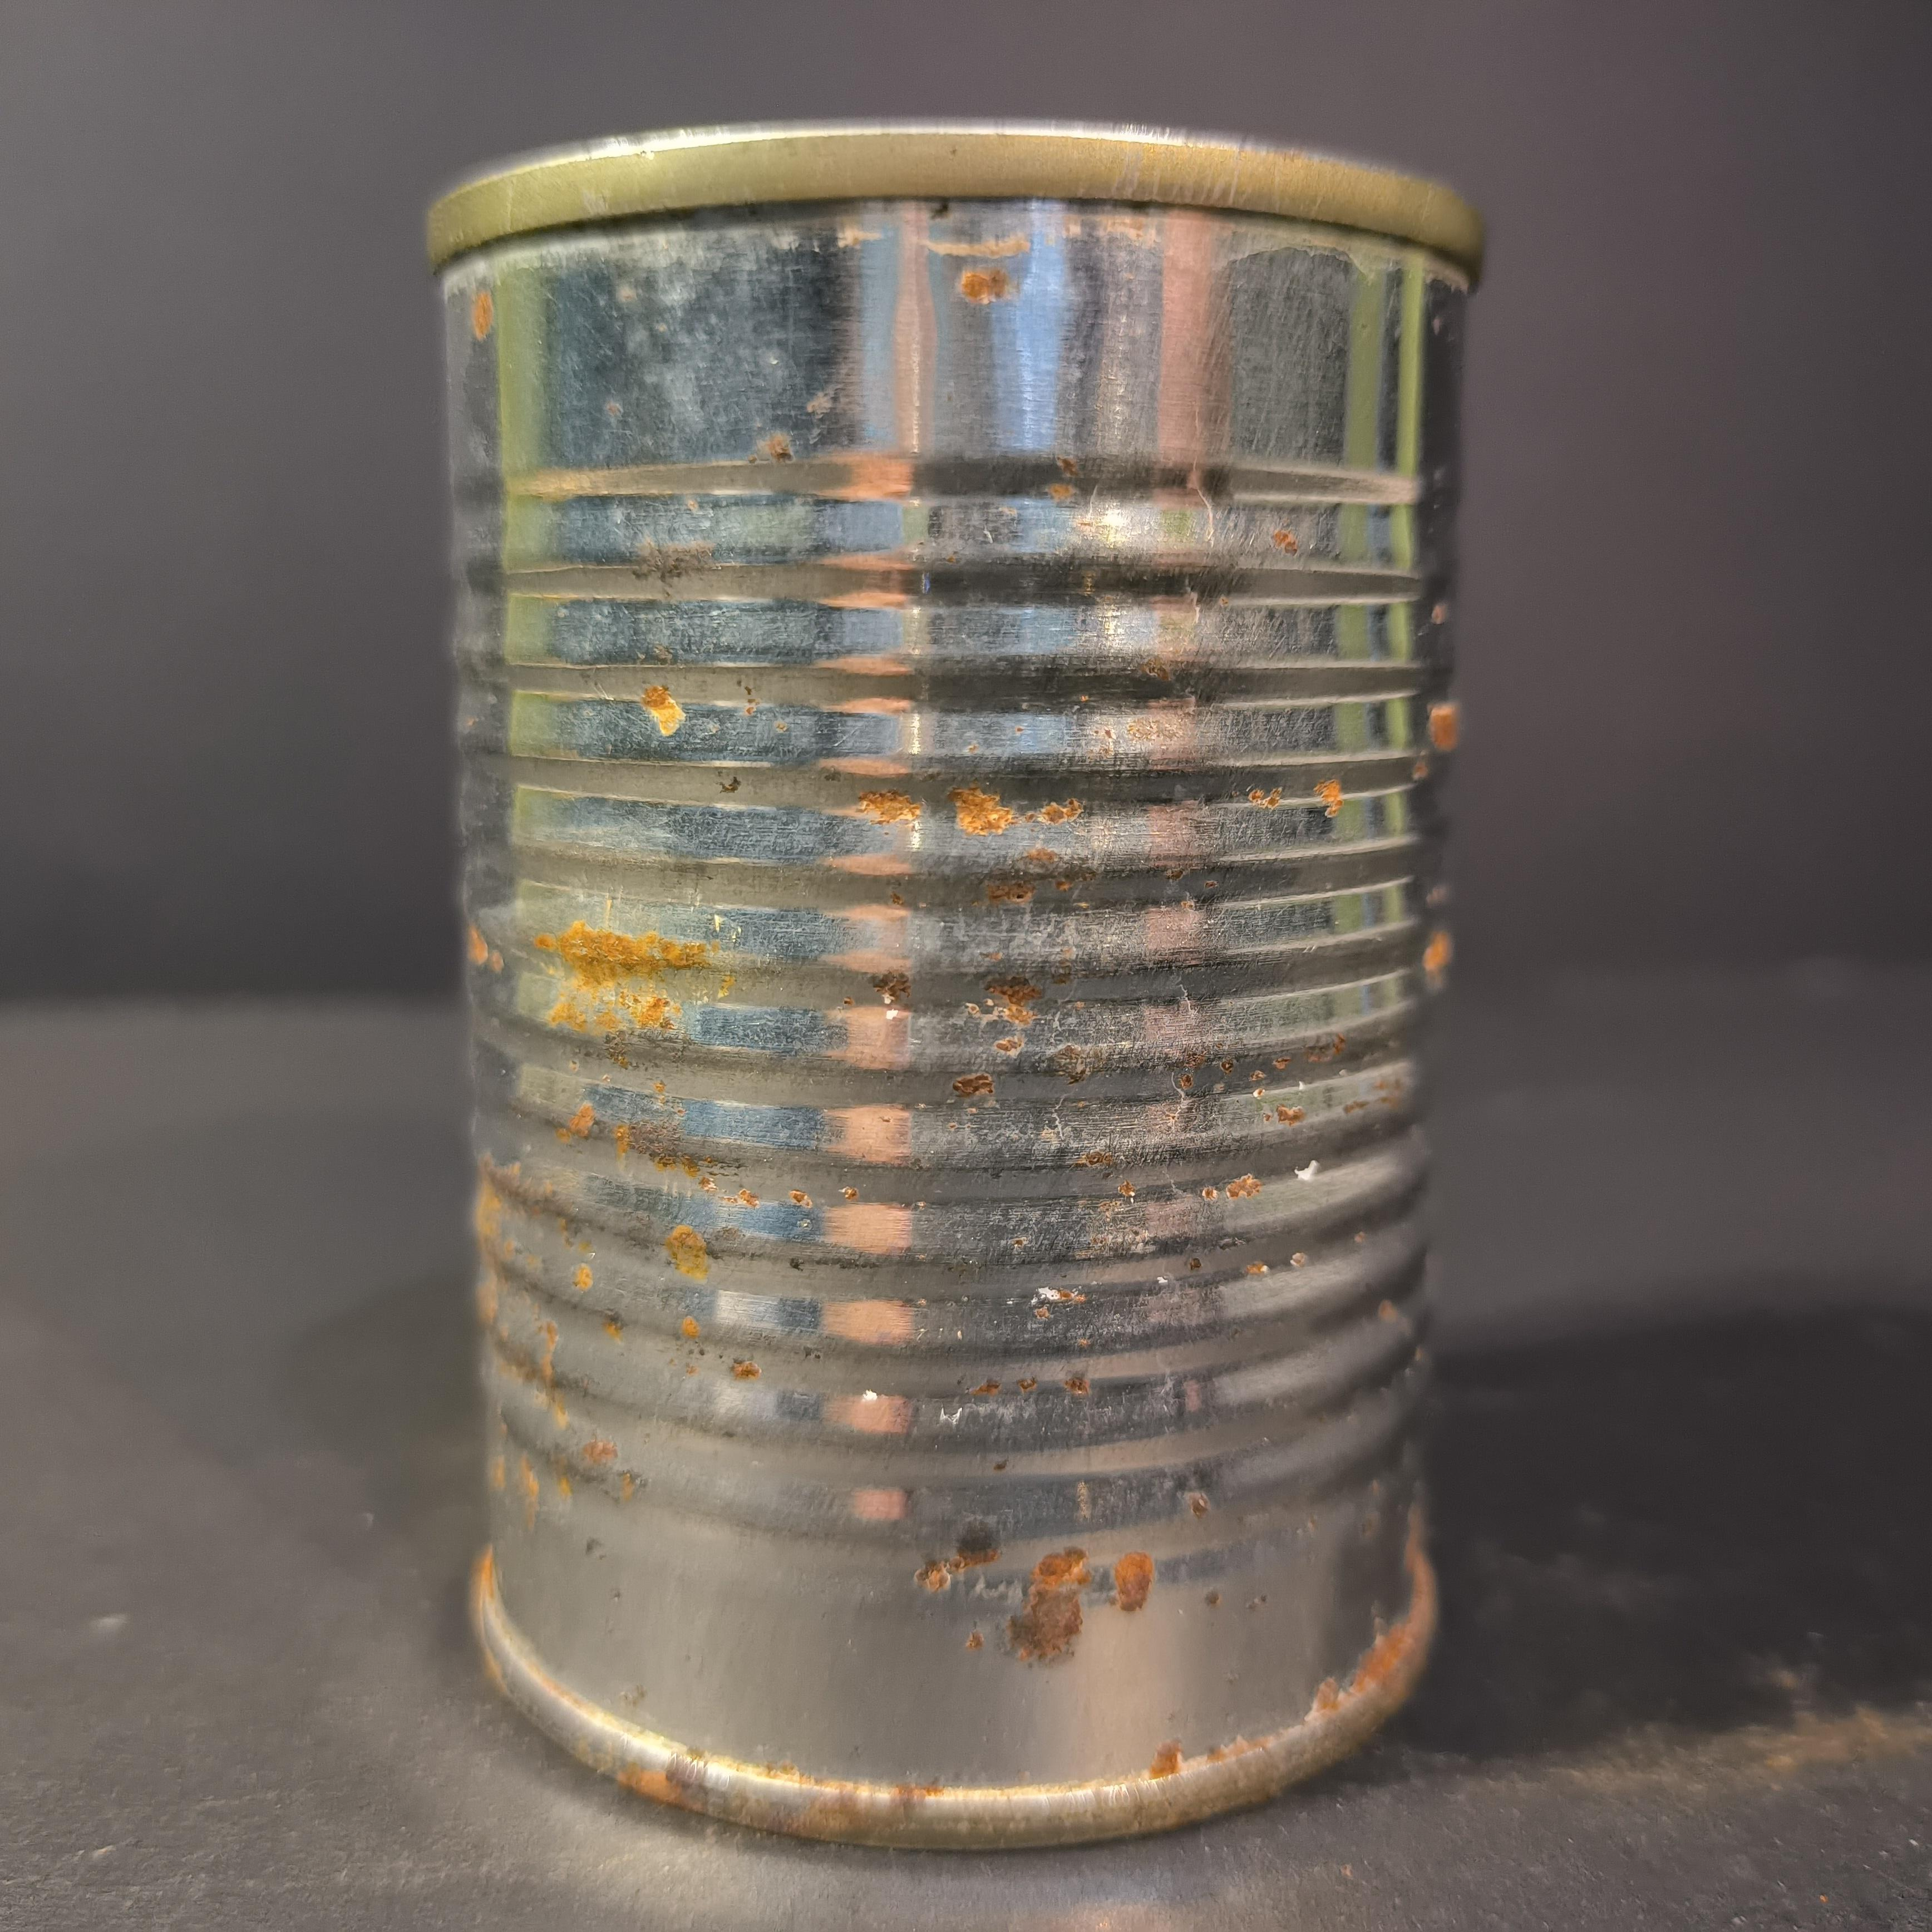Rusted: (407, 88, 1502, 1895)
